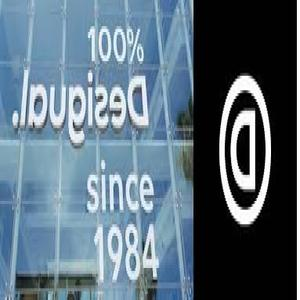desigual: (3, 64, 163, 151)
